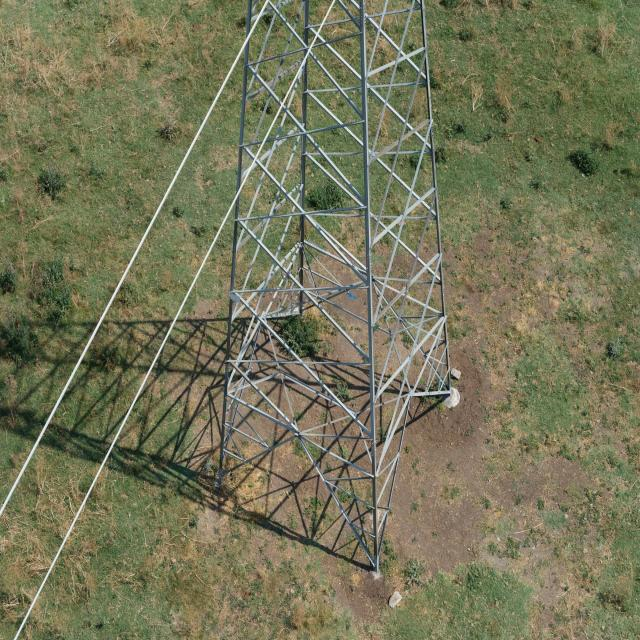direk: (215, 8, 450, 575)
